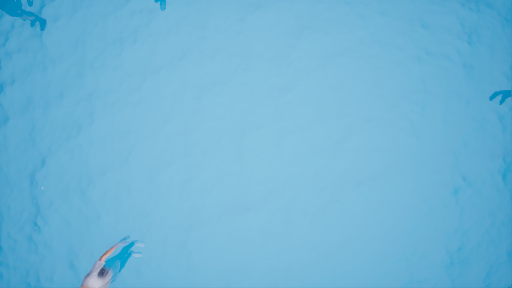person: (76, 231, 161, 285)
